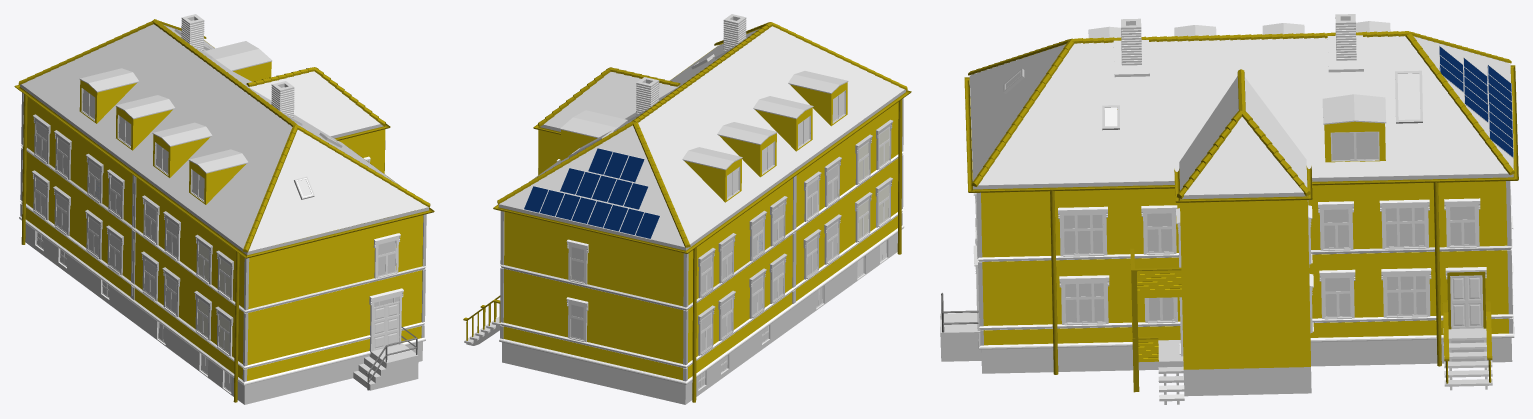
File: house_panel_2_0010.glb
The picture shows the model from 3 angles, left to right: view 1: azimuth 30°, elevation 25°; view 2: azimuth 150°, elevation 25°; view 3: azimuth 270°, elevation 25°; orthographic projection. The views are drawn at different scales.
Parts seen in each view (by area): view 1: SketchUp.874, SketchUp.871, SketchUp.865, SketchUp.002, SketchUp.511, SketchUp.484, SketchUp.001, SketchUp.872, SketchUp.015, SketchUp.057, SketchUp.052, SketchUp.734 (+19 smaller); view 2: SketchUp.874, SketchUp.871, SketchUp.002, SketchUp.865, SketchUp.511, SketchUp.484, SketchUp.001, SketchUp.872, SketchUp.057, SketchUp.052, SketchUp.734, SketchUp.522 (+30 smaller); view 3: SketchUp.871, SketchUp.874, SketchUp.868, SketchUp.865, SketchUp.002, SketchUp, SketchUp.511, SketchUp.872, SketchUp.734, SketchUp.057, SketchUp.484, SketchUp.019 (+30 smaller).
Part boxes in pixels (x1,y1,x2,y2): SketchUp.874: (25, 97, 423, 380); SketchUp.871: (21, 24, 428, 251); SketchUp.865: (249, 71, 380, 136); SketchUp.002: (25, 224, 422, 404); SketchUp.511: (14, 40, 434, 258); SketchUp.484: (19, 216, 425, 385); SketchUp.001: (109, 286, 199, 370); SketchUp.872: (20, 84, 428, 255); SketchUp.015: (353, 351, 418, 390); SketchUp.057: (20, 200, 425, 369); SketchUp.052: (21, 144, 426, 313); SketchUp.734: (205, 41, 272, 71); SketchUp.874: (503, 102, 898, 380); SketchUp.871: (499, 26, 904, 247); SketchUp.002: (502, 232, 897, 404); SketchUp.865: (544, 72, 678, 128); SketchUp.511: (493, 48, 911, 253); SketchUp.484: (499, 225, 904, 384); SketchUp.001: (770, 262, 857, 343); SketchUp.872: (498, 89, 905, 250); SketchUp.057: (499, 209, 903, 368); SketchUp.052: (500, 153, 902, 310); SketchUp.734: (560, 110, 627, 138); SketchUp.522: (790, 82, 847, 126); SketchUp.871: (969, 36, 1513, 185); SketchUp.874: (981, 109, 1508, 345); SketchUp.868: (1180, 200, 1310, 369); SketchUp.865: (1179, 76, 1307, 195); SketchUp.002: (981, 338, 1512, 373); SketchUp: (1183, 366, 1311, 396); SketchUp.511: (964, 65, 1518, 192); SketchUp.872: (969, 77, 1513, 189); SketchUp.734: (1322, 94, 1386, 124); SketchUp.057: (975, 218, 1513, 330); SketchUp.484: (975, 240, 1514, 349); SketchUp.019: (1137, 270, 1181, 298).
Bounding box in the file's own units: 13.74 × 13.47 × 22.92.
